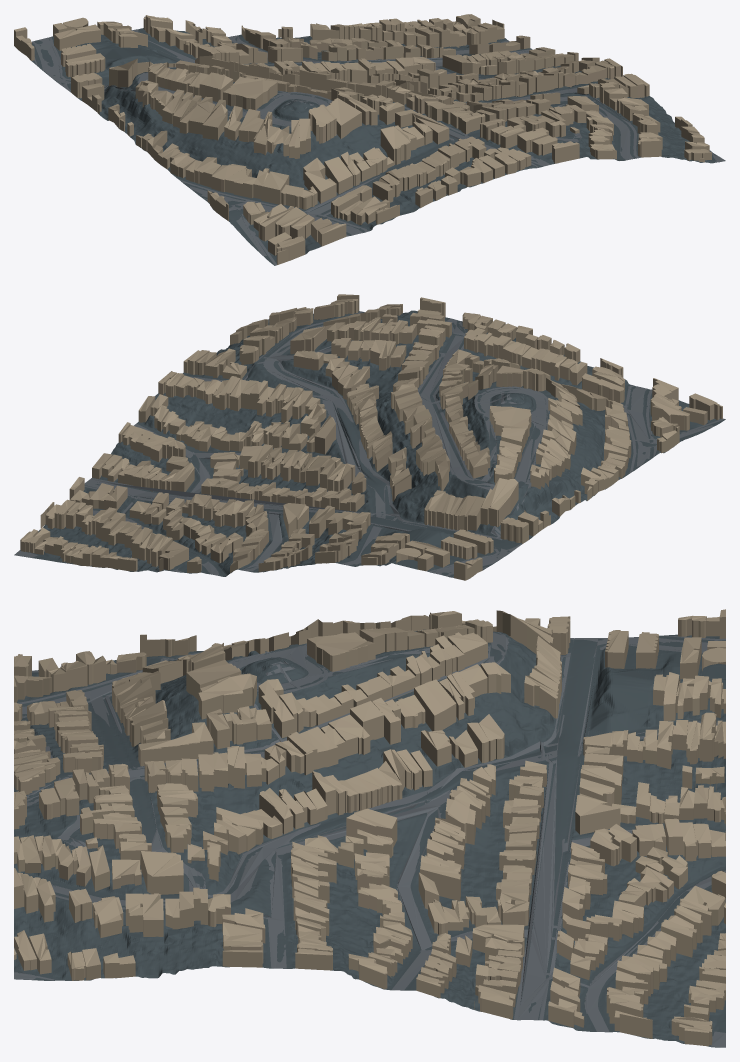
The model's file is epsg26910-1429-10884.lod0.glb.
The picture shows the model from 3 angles, top to bottom: view 1: azimuth 30°, elevation 25°; view 2: azimuth 150°, elevation 25°; view 3: azimuth 270°, elevation 25°; orthographic projection. The views are drawn at different scales.
Parts seen in each view (by area): view 1: epsg26910-1429-10884-lod0; view 2: epsg26910-1429-10884-lod0; view 3: epsg26910-1429-10884-lod0.
Boxes of the visible parts, x1=… form: epsg26910-1429-10884-lod0: x1=14, y1=14, x2=725, y2=265; epsg26910-1429-10884-lod0: x1=14, y1=294, x2=725, y2=580; epsg26910-1429-10884-lod0: x1=14, y1=609, x2=725, y2=1047.
Bounding box in the file's own units: 384 × 105 × 384.
